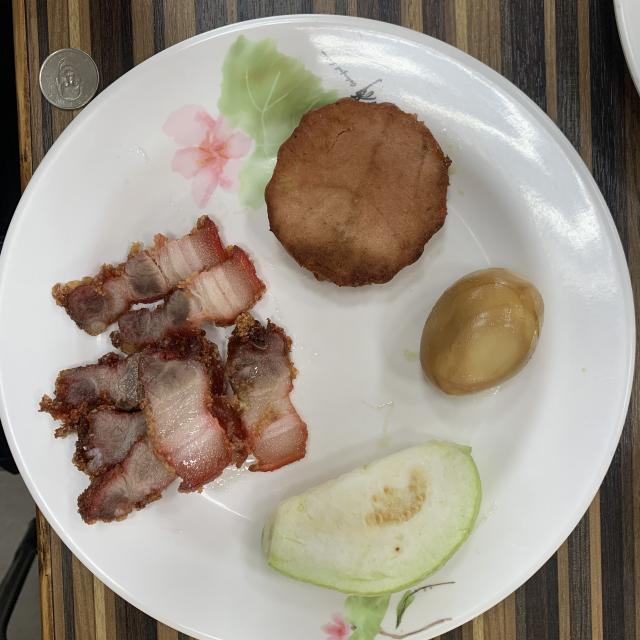Spam: (265, 98, 451, 286)
coin: (39, 48, 99, 110)
guava -sliced-: (262, 440, 481, 596)
red grilled pork: (40, 216, 308, 524)
soy egg: (420, 268, 544, 395)
